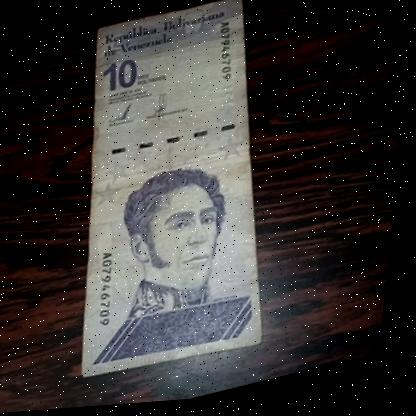ten-front-vef: (29, 0, 303, 399)
